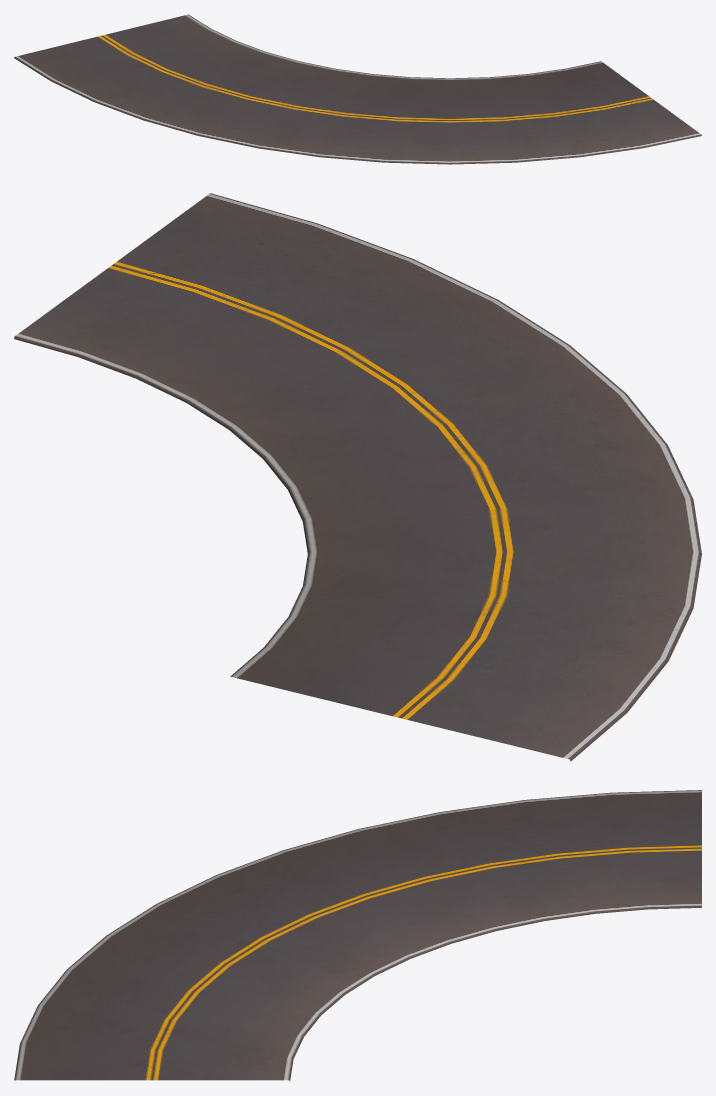
Rendered from SM_Floor_02.glb.
The picture shows the model from 3 angles, top to bottom: view 1: azimuth 30°, elevation 25°; view 2: azimuth 150°, elevation 25°; view 3: azimuth 270°, elevation 25°; orthographic projection. The views are drawn at different scales.
Visible parts, largest first — view 1: SM_Floor_02; view 2: SM_Floor_02; view 3: SM_Floor_02.
Boxes of the visible parts, left/top/right/bottom form: SM_Floor_02: left=14, top=14, right=701, bottom=164; SM_Floor_02: left=14, top=193, right=701, bottom=761; SM_Floor_02: left=14, top=790, right=701, bottom=1080.
Size of the model in its own units: 12.51 by 0.03 by 12.51.
Materials: 1 (1 with a texture image).
